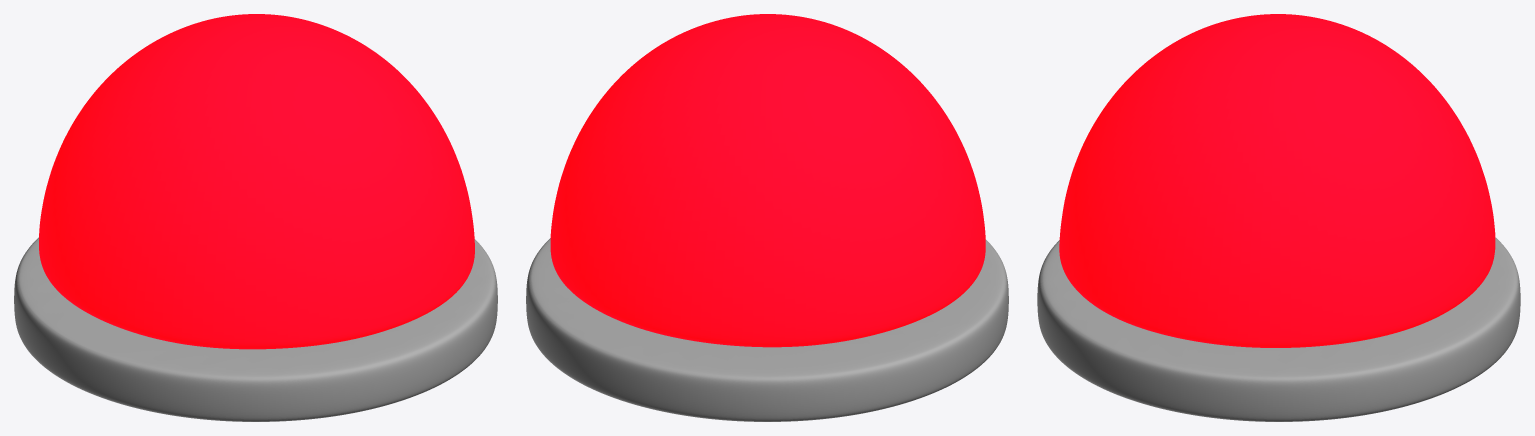
File: ButtonPressed.fbx
3 views of the same model, side by side, from view 1: azimuth 30°, elevation 25°; view 2: azimuth 150°, elevation 25°; view 3: azimuth 270°, elevation 25° (orthographic).
Parts seen in each view (by area): view 1: Circle; view 2: Circle; view 3: Circle.
Boxes of the visible parts, x1=… form: Circle: x1=14, y1=14, x2=497, y2=421; Circle: x1=526, y1=14, x2=1008, y2=421; Circle: x1=1037, y1=14, x2=1520, y2=421.
Bounding box in the file's own units: 199 × 133 × 199.
